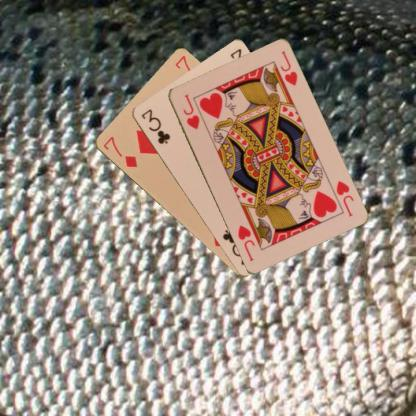3c: (138, 106, 172, 146)
7d: (100, 134, 138, 170)
Jh: (333, 177, 355, 218), (180, 91, 201, 131)
